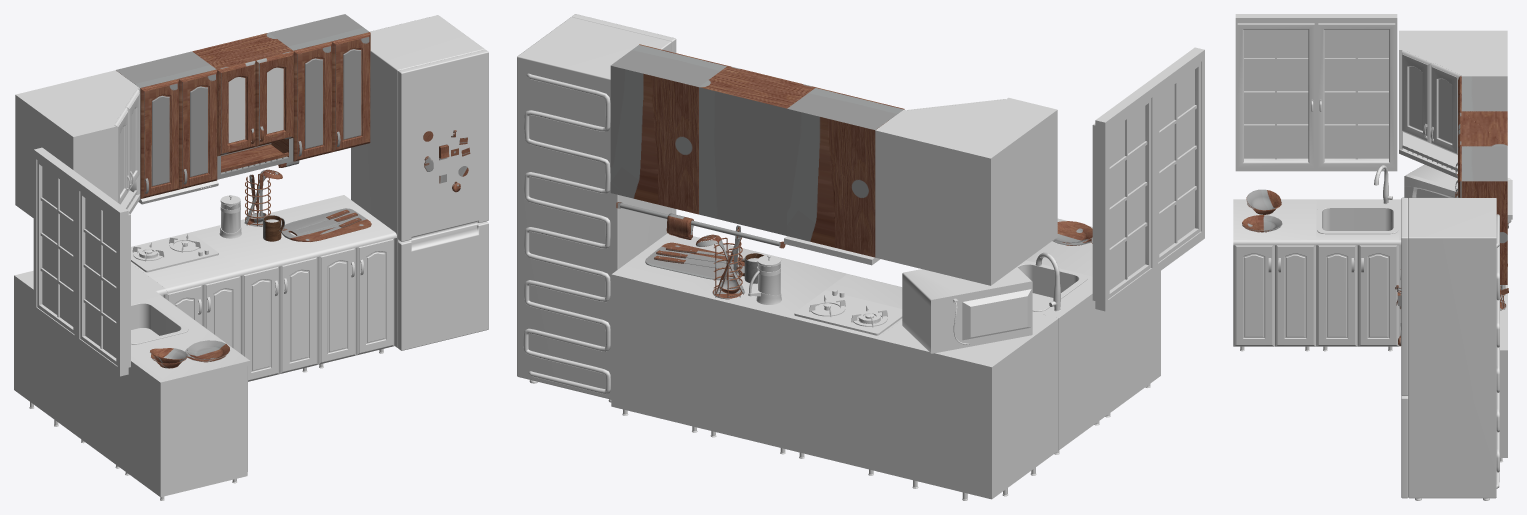
The model's file is Kitchenwa.fbx.
The picture shows the model from 3 angles, left to right: view 1: azimuth 30°, elevation 25°; view 2: azimuth 150°, elevation 25°; view 3: azimuth 270°, elevation 25°; orthographic projection. The views are drawn at different scales.
Visible parts, largest first — view 1: cupboard1_low.004, fridge1_low.001, cupboardupsbok1_low, fridge1_low, fridge1_low.002, window4_low, cupboardbok1, window2_low, window1_low, cupboard1_low.003, cupboardup2_low.001, cupboardup2_low (+25 smaller); view 2: fridge1_low, cupboardupsbok1_low, cupboardbok1, cupboard1_low.001, cupboard1_low.002, cupboardup1_low.002, cupboardup1_low, cupboardups1_low, cupboard1_low, window4_low, M1_low_Куб, window2_low (+9 smaller); view 3: fridge1_low, window4_low, window1_low, cupboardupsbok1_low, cupboard2_low.009, cupboard2_low.008, cupboard2_low.006, cupboard2_low.007, window2_low, cupboardup1_low, cupboard1_low.004, Куб.002 (+17 smaller).
Boxes of the visible parts, left/top/right/bottom form: cupboard1_low.004: left=116, top=328, right=251, bottom=497; fridge1_low.001: left=398, top=49, right=488, bottom=241; cupboardupsbok1_low: left=15, top=70, right=140, bottom=217; fridge1_low: left=351, top=15, right=484, bottom=347; fridge1_low.002: left=398, top=221, right=488, bottom=350; window4_low: left=42, top=167, right=116, bottom=357; cupboardbok1: left=14, top=263, right=167, bottom=431; window2_low: left=33, top=147, right=128, bottom=376; window1_low: left=37, top=160, right=130, bottom=367; cupboard1_low.003: left=72, top=296, right=205, bottom=464; cupboardup2_low.001: left=293, top=41, right=332, bottom=161; cupboardup2_low: left=332, top=32, right=370, bottom=152; fridge1_low: left=517, top=17, right=671, bottom=399; cupboardupsbok1_low: left=875, top=97, right=1057, bottom=285; cupboardbok1: left=876, top=312, right=1058, bottom=499; cupboard1_low.001: left=699, top=252, right=846, bottom=449; cupboard1_low.002: left=611, top=233, right=759, bottom=427; cupboardup1_low.002: left=787, top=88, right=903, bottom=257; cupboardup1_low: left=610, top=45, right=726, bottom=214; cupboardups1_low: left=699, top=66, right=814, bottom=235; cupboard1_low: left=788, top=274, right=902, bottom=470; window4_low: left=1109, top=69, right=1194, bottom=290; M1_low_Куб: left=902, top=267, right=1032, bottom=353; window2_low: left=1095, top=47, right=1204, bottom=311; fridge1_low: left=1408, top=197, right=1496, bottom=498; window4_low: left=1244, top=29, right=1388, bottom=158; window1_low: left=1237, top=23, right=1395, bottom=167; cupboardupsbok1_low: left=1399, top=30, right=1507, bottom=178; cupboard2_low.009: left=1274, top=245, right=1316, bottom=346; cupboard2_low.008: left=1233, top=245, right=1274, bottom=346; cupboard2_low.006: left=1316, top=245, right=1357, bottom=346; cupboard2_low.007: left=1357, top=245, right=1399, bottom=346; window2_low: left=1235, top=14, right=1397, bottom=171; cupboardup1_low: left=1461, top=146, right=1507, bottom=284; cupboard1_low.004: left=1233, top=199, right=1316, bottom=245; Куб.002: left=1317, top=205, right=1398, bottom=234.
Bounding box in the file's own units: 418 × 264 × 235.
